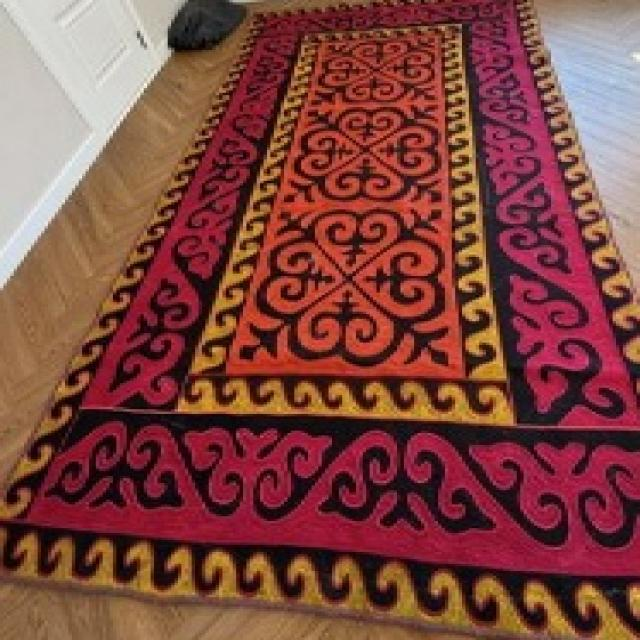Unity: (232, 208, 457, 375), (278, 103, 446, 204), (310, 38, 441, 102)
